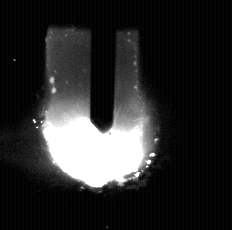arame: (90, 0, 116, 134)
poca: (44, 0, 145, 230)
